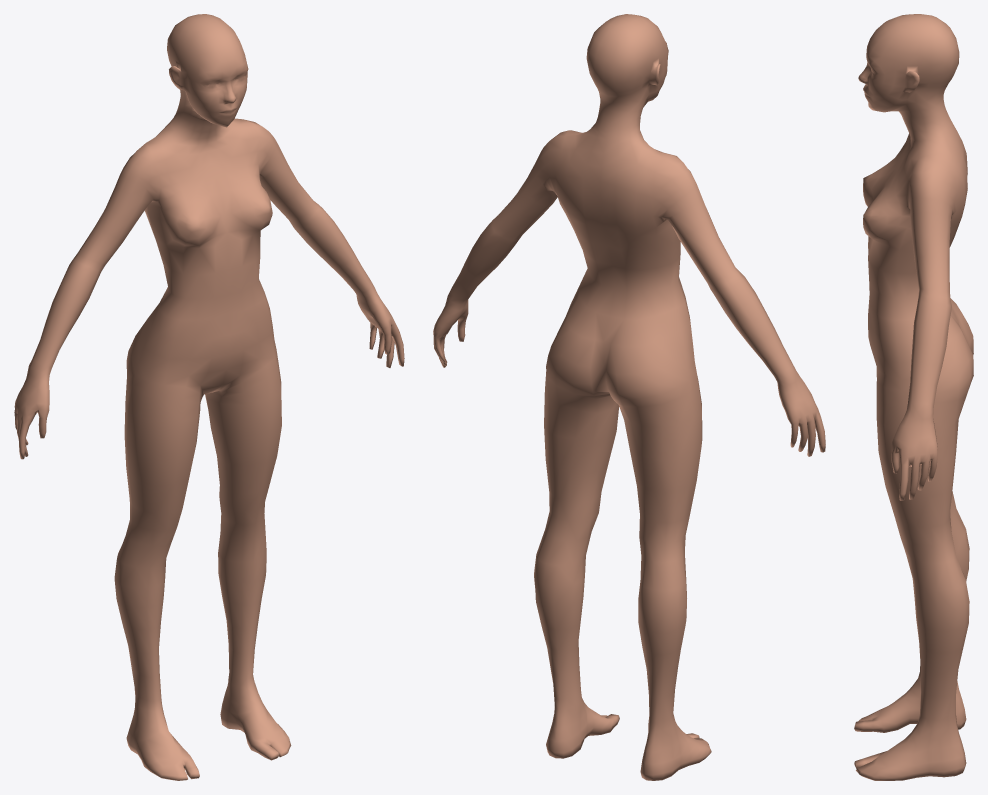
The model's file is femalebody_with_base_color.glb.
3 renders of one model, left to right at view 1: azimuth 30°, elevation 25°; view 2: azimuth 150°, elevation 25°; view 3: azimuth 270°, elevation 25°, orthographic.
Visible parts, largest first — view 1: FemaleBaseMesh; view 2: FemaleBaseMesh; view 3: FemaleBaseMesh.
Boxes of the visible parts, x1,y1,x2,y2 form: FemaleBaseMesh: [14, 14, 404, 780]; FemaleBaseMesh: [433, 14, 825, 780]; FemaleBaseMesh: [854, 14, 973, 780].
Size of the model in its own units: 0.9761 by 1.77 by 0.2624.
